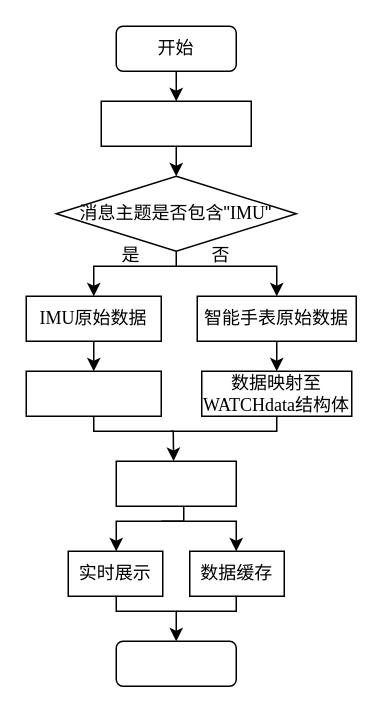
The diagram is 383 pixels wide and 713 high, and some of its shapes have lost their labels. Each missing label, with the centre of its shape:
原始数据分类: the point at 175,123
数据映射至 IMUdata 结构体: the point at 93,393
数据校验: the point at 175,483
结束: the point at 175,663
